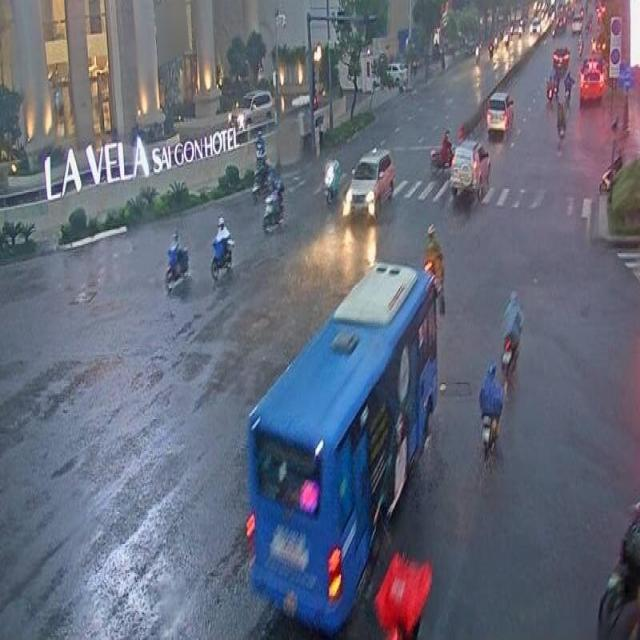bus: (247, 265, 438, 631)
car: (348, 146, 394, 218), (450, 139, 490, 192)
motorcycle: (478, 361, 502, 460), (210, 215, 233, 280)
